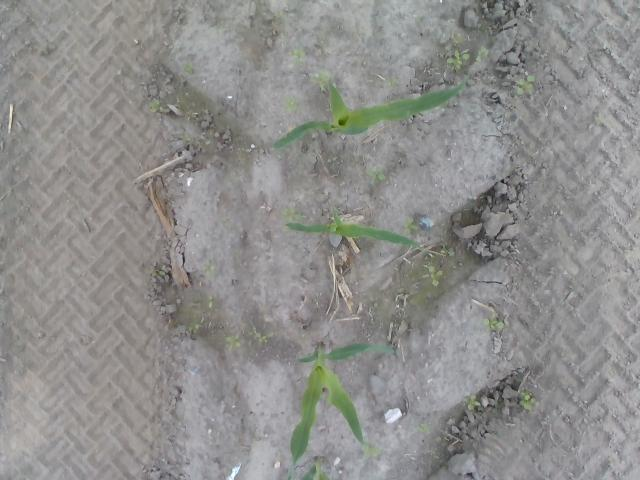Maize: (287, 340, 395, 480), (271, 75, 469, 151), (284, 206, 418, 248)
Weeds: (516, 74, 537, 97), (446, 47, 470, 66), (282, 206, 304, 224), (428, 264, 444, 288), (249, 327, 271, 343), (368, 164, 385, 184), (483, 316, 504, 330), (224, 336, 240, 352), (464, 395, 480, 410), (520, 390, 532, 410), (404, 216, 417, 234), (475, 46, 489, 62), (202, 260, 215, 273), (287, 96, 297, 112), (318, 71, 330, 84), (384, 78, 398, 89), (288, 48, 304, 57), (182, 62, 192, 76), (152, 99, 162, 112), (189, 322, 199, 334), (368, 447, 382, 454), (206, 296, 214, 308), (154, 268, 166, 276), (184, 110, 192, 120), (419, 424, 428, 432)
